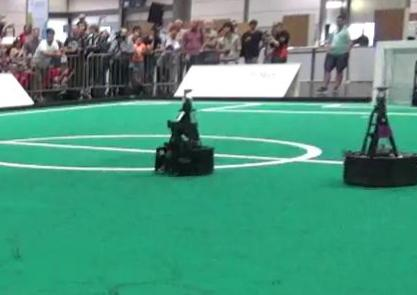robot: (340, 83, 417, 186), (154, 89, 218, 178)
